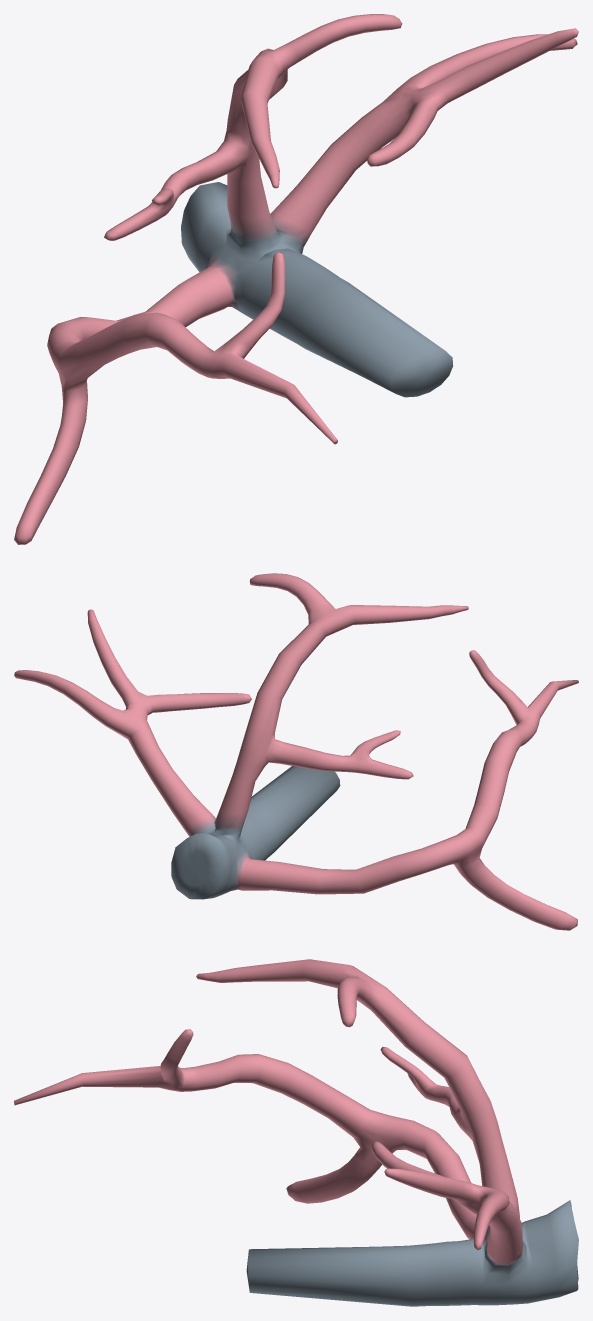
Rendered from _IVC_Heart.fbx.
The picture shows the model from 3 angles, top to bottom: view 1: azimuth 30°, elevation 25°; view 2: azimuth 150°, elevation 25°; view 3: azimuth 270°, elevation 25°; orthographic projection. The views are drawn at different scales.
Visible parts, largest first — view 1: IVC_Heart; view 2: IVC_Heart; view 3: IVC_Heart.
Part boxes in pixels (x1,y1,x2,y2): IVC_Heart: [14, 14, 578, 544]; IVC_Heart: [14, 573, 578, 930]; IVC_Heart: [14, 959, 578, 1306].
Size of the model in its own units: 183 by 110 by 154.
